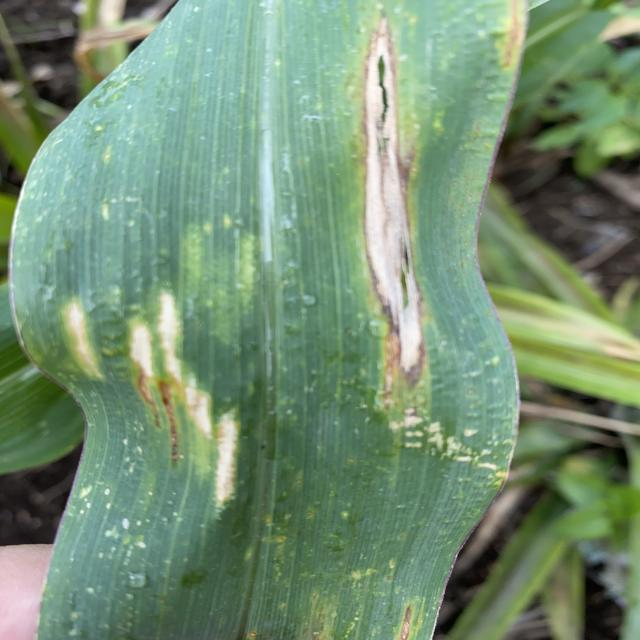Corn_Leaf_Blight: (14, 0, 510, 640)
